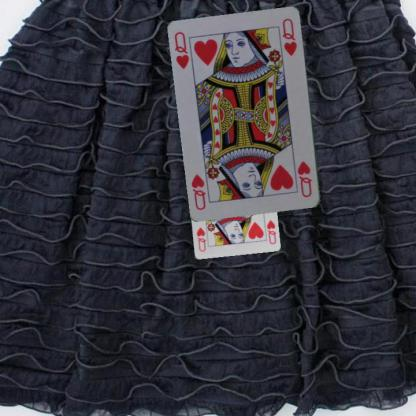Qh: (172, 29, 191, 71), (295, 158, 313, 199), (264, 217, 277, 246)
